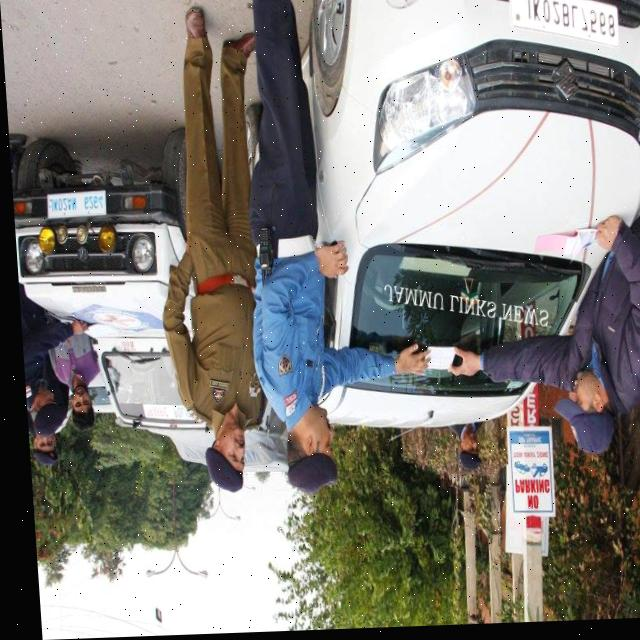plate: (504, 0, 626, 62), (40, 188, 110, 221)
